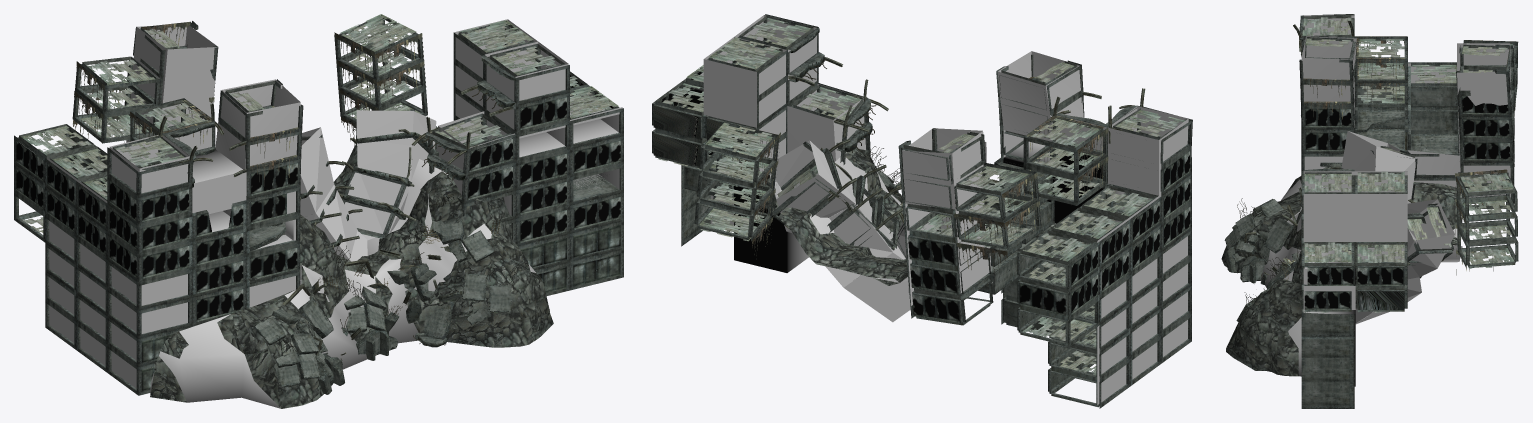
File: Blockade01.FBX
The picture shows the model from 3 angles, left to right: view 1: azimuth 30°, elevation 25°; view 2: azimuth 150°, elevation 25°; view 3: azimuth 270°, elevation 25°; orthographic projection. The views are drawn at different scales.
Visible parts, largest first — view 1: RubbleBlockade01:24, RubbleBlockade01_lod:0, RubbleBlockade01:33, RubbleBlockade01:42, RubbleBlockade01:5, RubbleBlockade01:15, RubbleBlockade01:28; view 2: RubbleBlockade01:24, RubbleBlockade01_lod:0, RubbleBlockade01:5, RubbleBlockade01:33, RubbleBlockade01:42, RubbleBlockade01:28, RubbleBlockade01:15; view 3: RubbleBlockade01:24, RubbleBlockade01_lod:0, RubbleBlockade01:5, RubbleBlockade01:42, RubbleBlockade01:33, RubbleBlockade01:28, RubbleBlockade01:15.
Part boxes in pixels (x1,y1,x2,y2): RubbleBlockade01:24: (14, 15, 623, 395); RubbleBlockade01_lod:0: (47, 19, 622, 408); RubbleBlockade01:33: (15, 75, 620, 391); RubbleBlockade01:42: (150, 145, 553, 408); RubbleBlockade01:5: (21, 14, 618, 232); RubbleBlockade01:15: (169, 58, 515, 394); RubbleBlockade01:28: (149, 85, 522, 355); RubbleBlockade01:24: (652, 14, 1192, 408); RubbleBlockade01_lod:0: (683, 15, 1188, 404); RubbleBlockade01:5: (658, 17, 1184, 375); RubbleBlockade01:33: (659, 71, 1190, 323); RubbleBlockade01:42: (778, 148, 1055, 285); RubbleBlockade01:28: (785, 57, 1145, 230); RubbleBlockade01:15: (791, 29, 1124, 222); RubbleBlockade01:24: (1225, 14, 1518, 408); RubbleBlockade01_lod:0: (1248, 15, 1511, 386); RubbleBlockade01:5: (1300, 17, 1518, 312); RubbleBlockade01:42: (1221, 164, 1462, 376); RubbleBlockade01:33: (1304, 96, 1514, 309); RubbleBlockade01:28: (1237, 20, 1443, 308); RubbleBlockade01:15: (1224, 37, 1353, 320).
Bounding box in the file's own units: 46.16 × 23.58 × 28.62.
